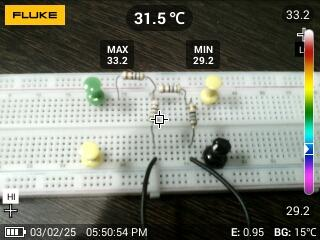resistor: (186, 102, 200, 128), (149, 97, 162, 125), (119, 70, 146, 82), (156, 83, 184, 93)
